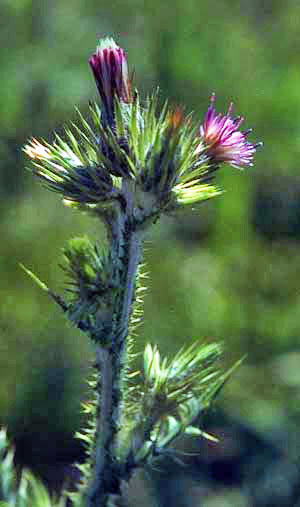thistle: (197, 99, 267, 197)
